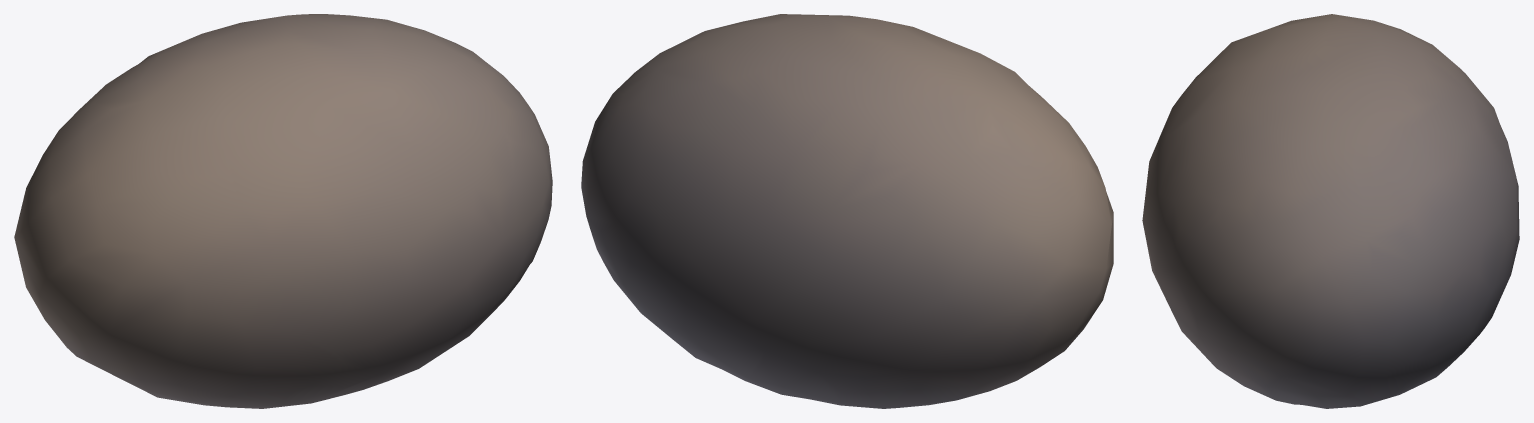
The model's file is husk_pelvis.glb.
The picture shows the model from 3 angles, left to right: view 1: azimuth 30°, elevation 25°; view 2: azimuth 150°, elevation 25°; view 3: azimuth 270°, elevation 25°; orthographic projection. The views are drawn at different scales.
Visible parts, largest first — view 1: geometry_0; view 2: geometry_0; view 3: geometry_0.
Boxes of the visible parts, x1=… form: geometry_0: x1=14, y1=14, x2=552, y2=408; geometry_0: x1=581, y1=14, x2=1113, y2=408; geometry_0: x1=1142, y1=14, x2=1519, y2=408.
Bounding box in the file's own units: 0.4811 × 0.3211 × 0.3403.
